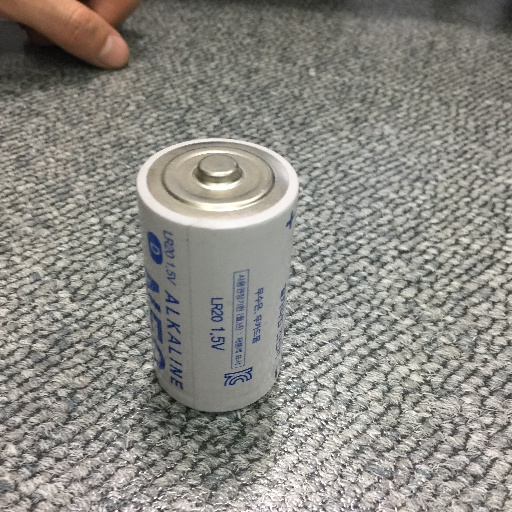Battery_0: (131, 125, 308, 421)
